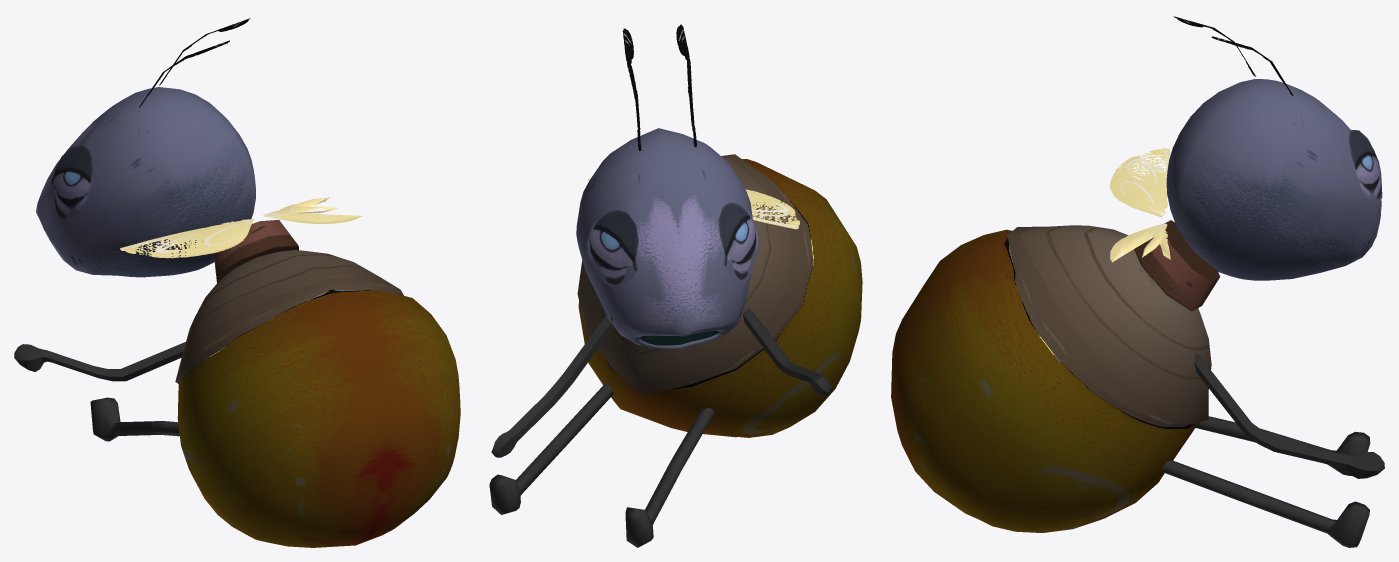
File: ExtraChar_Dying.fbx
3 views of the same model, side by side, from view 1: azimuth 30°, elevation 25°; view 2: azimuth 150°, elevation 25°; view 3: azimuth 270°, elevation 25° (orthographic). The views are drawn at different scales.
Visible parts, largest first — view 1: Firefly_rig:new_Butt, Firefly_rig:Head, Firefly_rig:Wings_L2, Firefly_rig:arms, Firefly_rig:Neck, Firefly_rig:legs, Firefly_rig:Wings_R2; view 2: Firefly_rig:new_Butt, Firefly_rig:Head, Firefly_rig:legs, Firefly_rig:arms, Firefly_rig:Wings_L2, Firefly_rig:Antennae_L, Firefly_rig:Antennae_R; view 3: Firefly_rig:new_Butt, Firefly_rig:Head, Firefly_rig:legs, Firefly_rig:Neck, Firefly_rig:arms, Firefly_rig:Wings_L2, Firefly_rig:Wings_R2.
Boxes of the visible parts, left/top/right/bottom form: Firefly_rig:new_Butt: left=175, top=250, right=460, bottom=547; Firefly_rig:Head: left=36, top=87, right=255, bottom=277; Firefly_rig:Wings_L2: left=120, top=219, right=254, bottom=258; Firefly_rig:arms: left=14, top=341, right=186, bottom=381; Firefly_rig:Neck: left=214, top=220, right=298, bottom=282; Firefly_rig:legs: left=90, top=397, right=179, bottom=441; Firefly_rig:Wings_R2: left=263, top=197, right=361, bottom=223; Firefly_rig:new_Butt: left=577, top=154, right=862, bottom=437; Firefly_rig:Head: left=576, top=128, right=759, bottom=349; Firefly_rig:legs: left=489, top=382, right=714, bottom=547; Firefly_rig:arms: left=491, top=308, right=832, bottom=457; Firefly_rig:Wings_L2: left=745, top=189, right=799, bottom=229; Firefly_rig:Antennae_L: left=676, top=24, right=696, bottom=147; Firefly_rig:Antennae_R: left=622, top=28, right=641, bottom=150; Firefly_rig:new_Butt: left=891, top=225, right=1211, bottom=532; Firefly_rig:Head: left=1166, top=79, right=1382, bottom=280; Firefly_rig:legs: left=1161, top=416, right=1370, bottom=547; Firefly_rig:Neck: left=1134, top=220, right=1220, bottom=311; Firefly_rig:arms: left=1194, top=352, right=1384, bottom=478; Firefly_rig:Wings_L2: left=1109, top=148, right=1170, bottom=217; Firefly_rig:Wings_R2: left=1110, top=223, right=1170, bottom=262.
Size of the model in its own units: 11.46 by 15.09 by 13.84.
